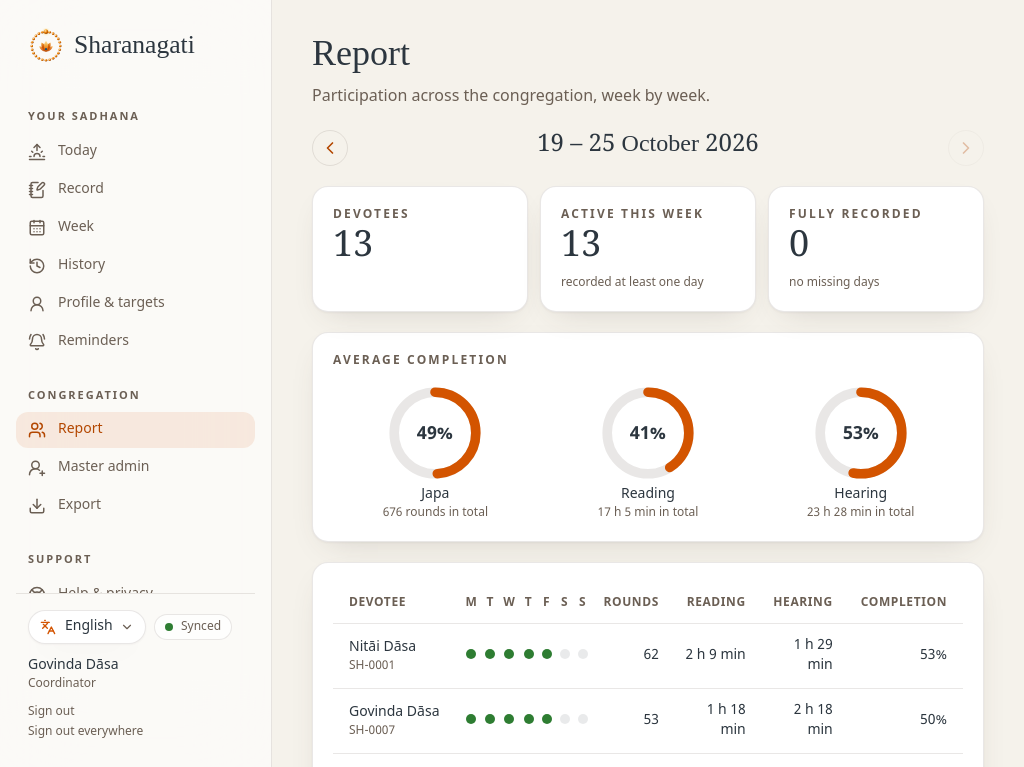
ReportScreen › moves to the previous week
This screenshot has width=1024, height=767.
Click the button named "Previous week".
click(330, 148)  # box [312, 130, 348, 166]
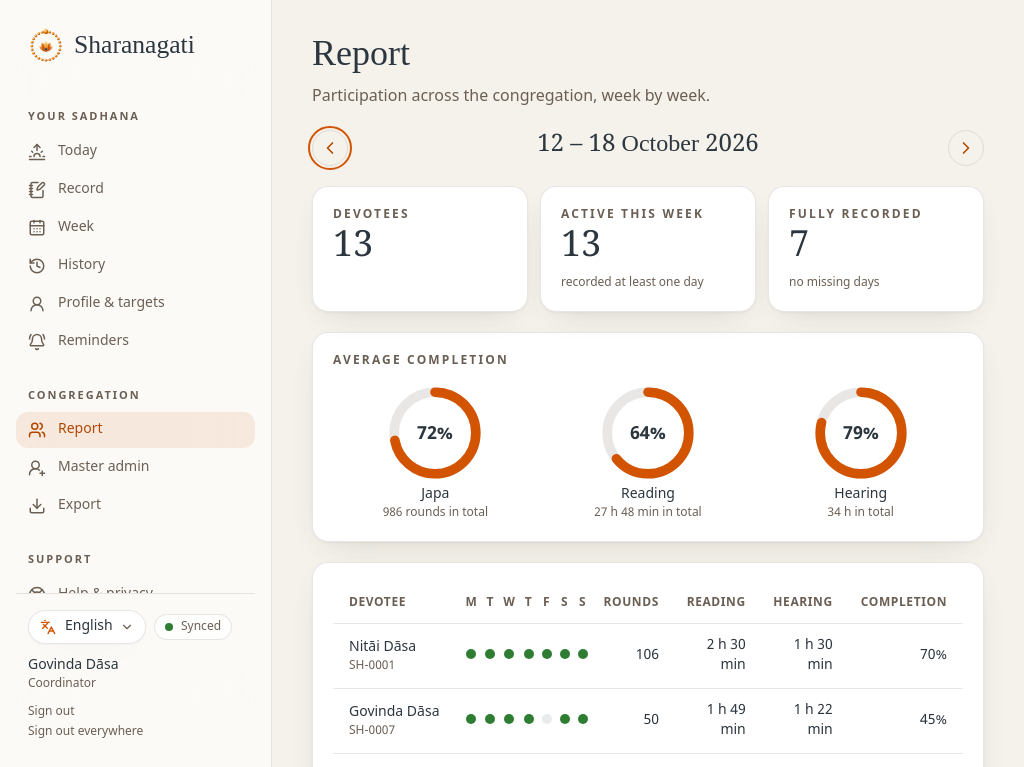
expect the heading "12 – 18 October 2026" is shown: met, box [537, 132, 759, 164]
